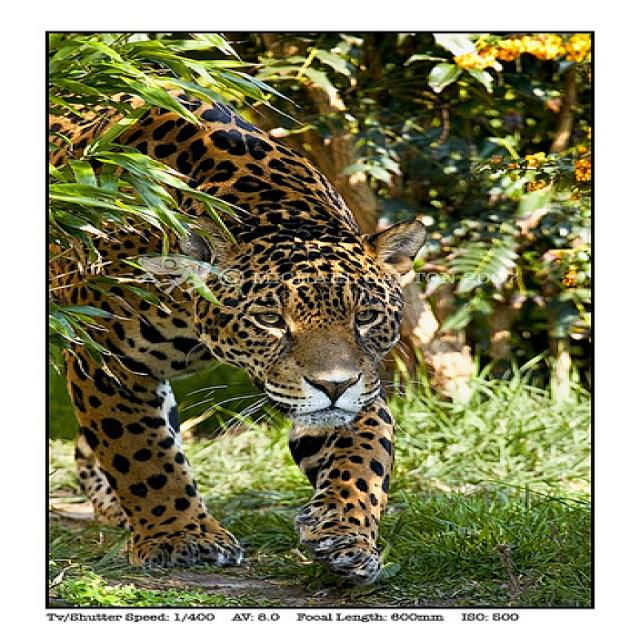Leopard: (43, 85, 426, 582)
